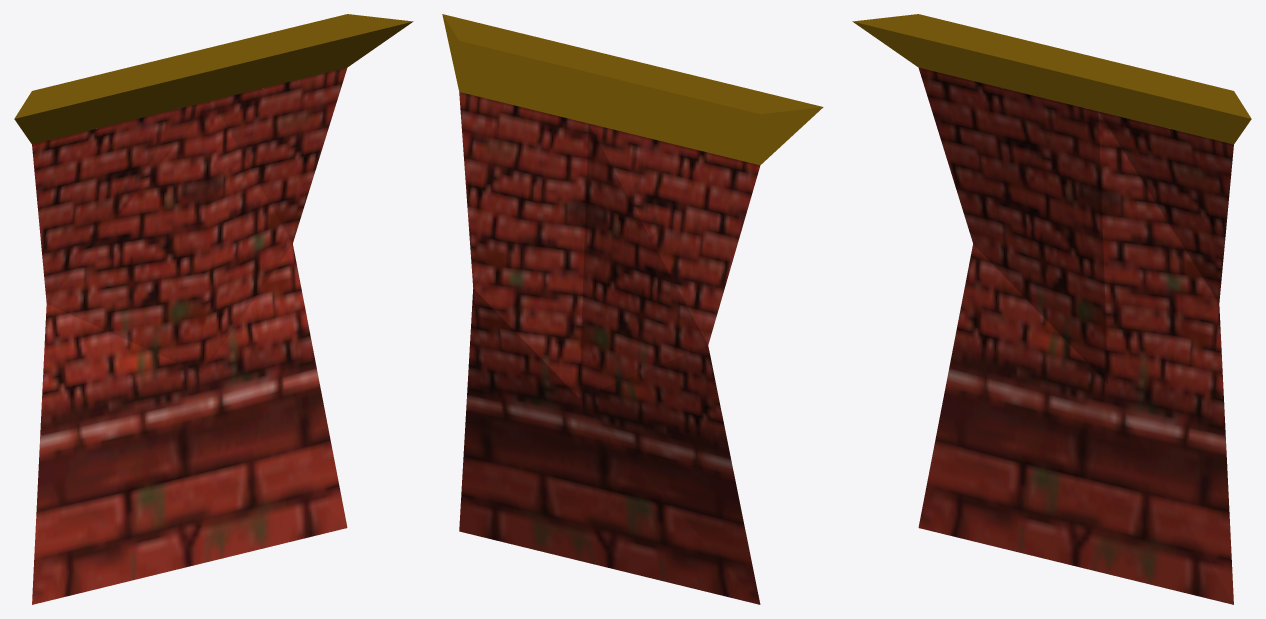
3 renders of one model, left to right at view 1: azimuth 30°, elevation 25°; view 2: azimuth 150°, elevation 25°; view 3: azimuth 330°, elevation 25°, orthographic. The views are drawn at different scales.
Parts seen in each view (by area): view 1: polySurfaceShape1201, polySurfaceShape1203; view 2: polySurfaceShape1201, polySurfaceShape1203; view 3: polySurfaceShape1201, polySurfaceShape1203.
Part boxes in pixels (x1,y1,x2,y2): polySurfaceShape1201: [32, 68, 347, 604]; polySurfaceShape1203: [14, 14, 413, 144]; polySurfaceShape1201: [459, 92, 760, 604]; polySurfaceShape1203: [442, 14, 823, 165]; polySurfaceShape1201: [918, 68, 1233, 604]; polySurfaceShape1203: [852, 14, 1251, 144].
Bounding box in the file's own units: 0.3166 × 0.3891 × 0.0607.
2 materials, 1 textured.
